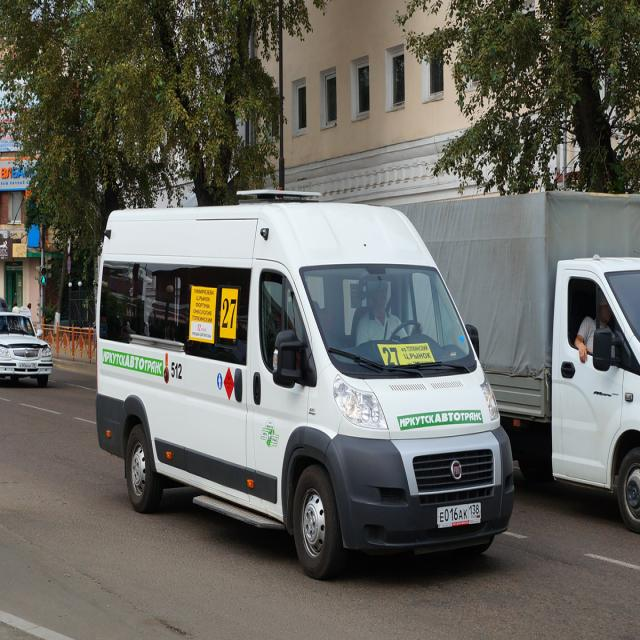number-of-bus: (222, 297, 239, 331), (384, 346, 405, 368)
